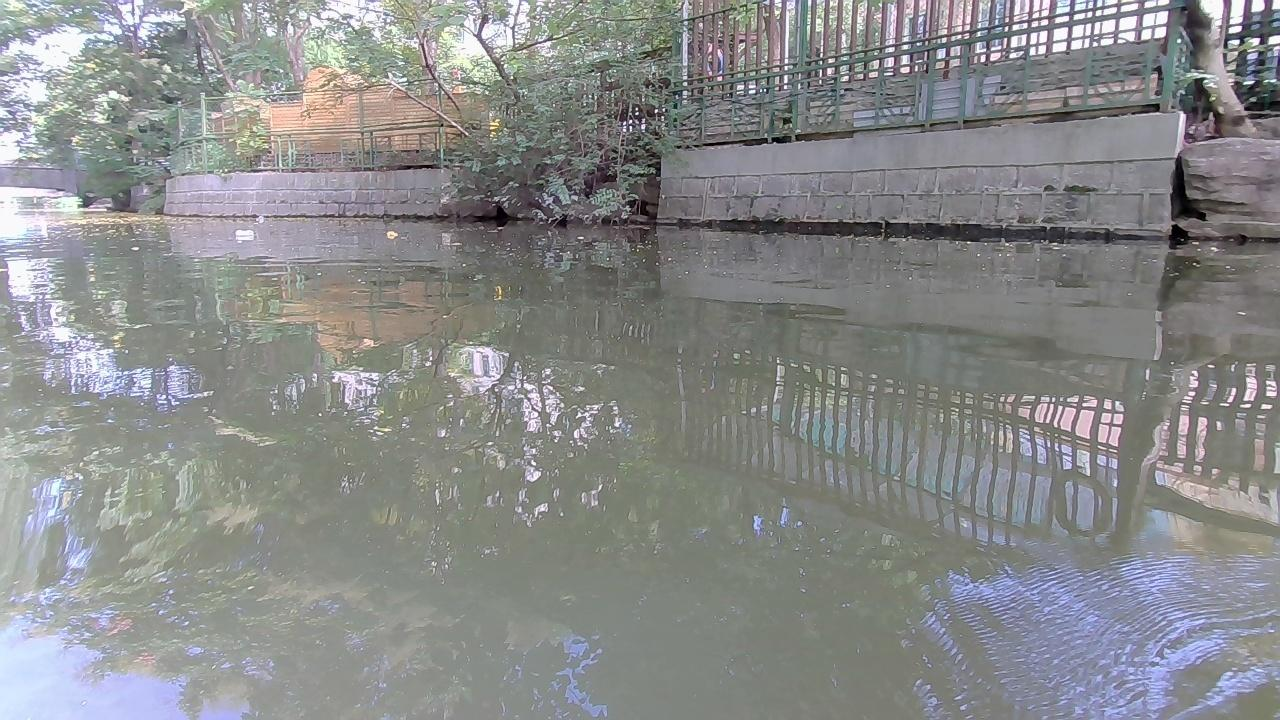bottle: (230, 227, 255, 238), (430, 231, 450, 244), (382, 230, 401, 241), (253, 213, 266, 224)
